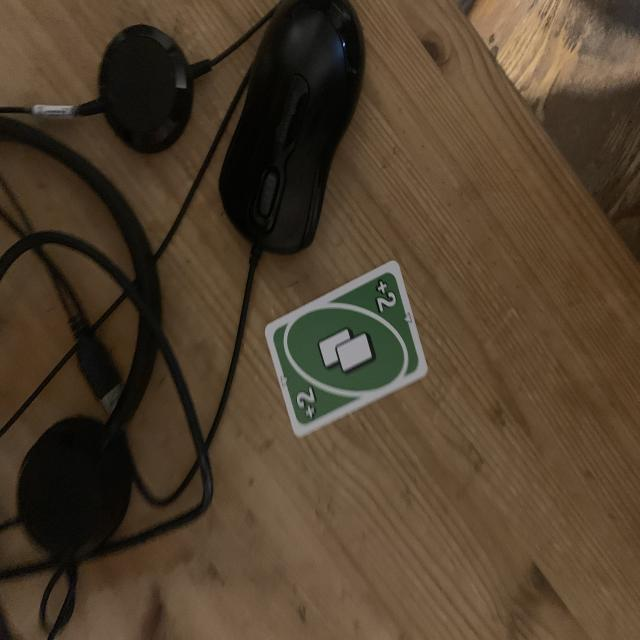lgreen-20: (368, 276, 402, 318)
